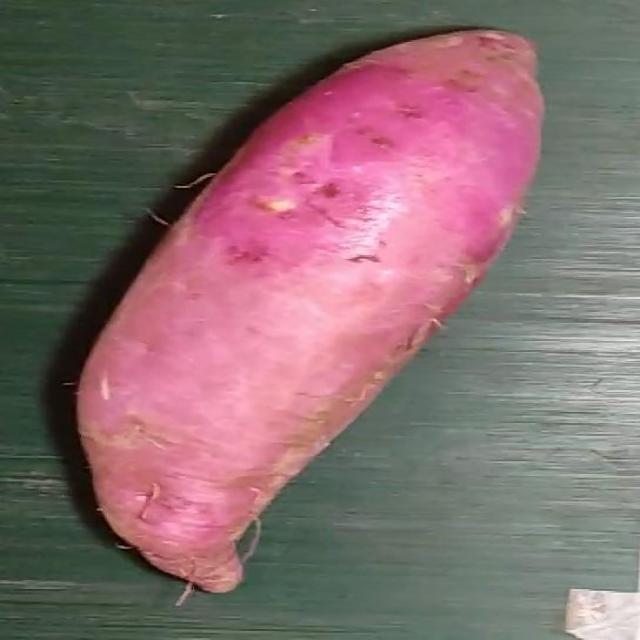Sweet Potato: (73, 27, 547, 595)
